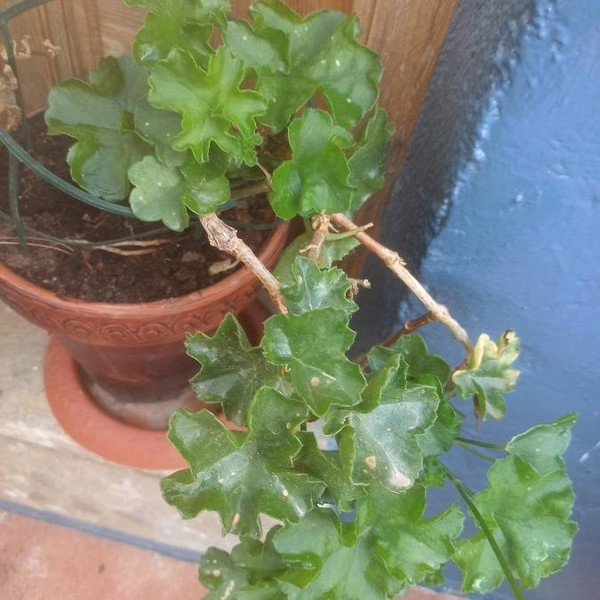obstacle: (18, 15, 565, 588)
